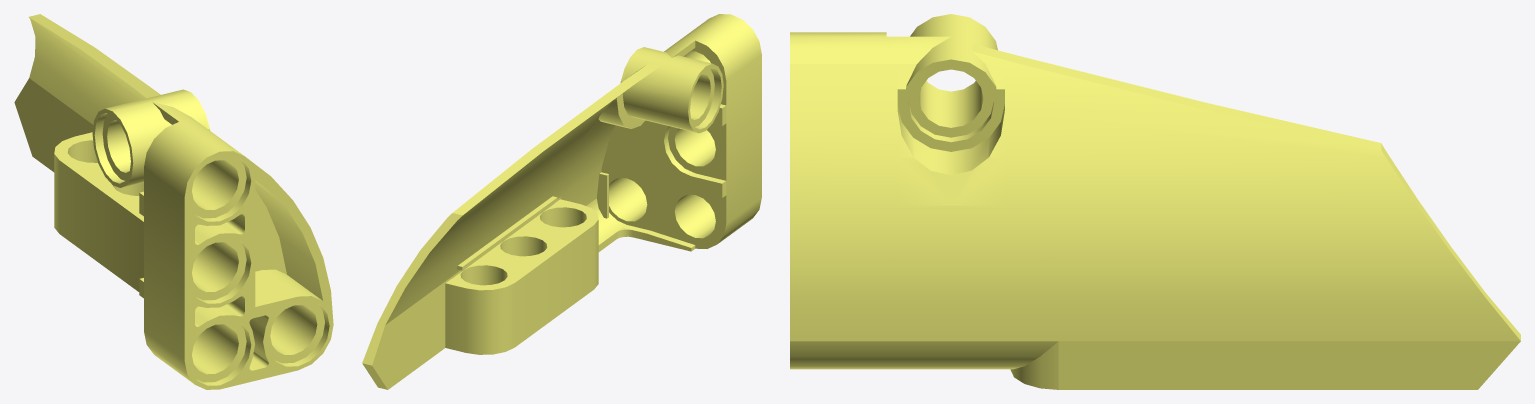
3 renders of one model, left to right at view 1: azimuth 30°, elevation 25°; view 2: azimuth 150°, elevation 25°; view 3: azimuth 270°, elevation 25°, orthographic. The views are drawn at different scales.
Parts seen in each view (by area): view 1: 64683.dat; view 2: 64683.dat; view 3: 64683.dat.
Part boxes in pixels (x1,y1,x2,y2): 64683.dat: (14,14,333,389); 64683.dat: (362,14,761,389); 64683.dat: (790,14,1520,389).
Size of the model in its own units: 0.0156 by 0.0236 by 0.0544.
